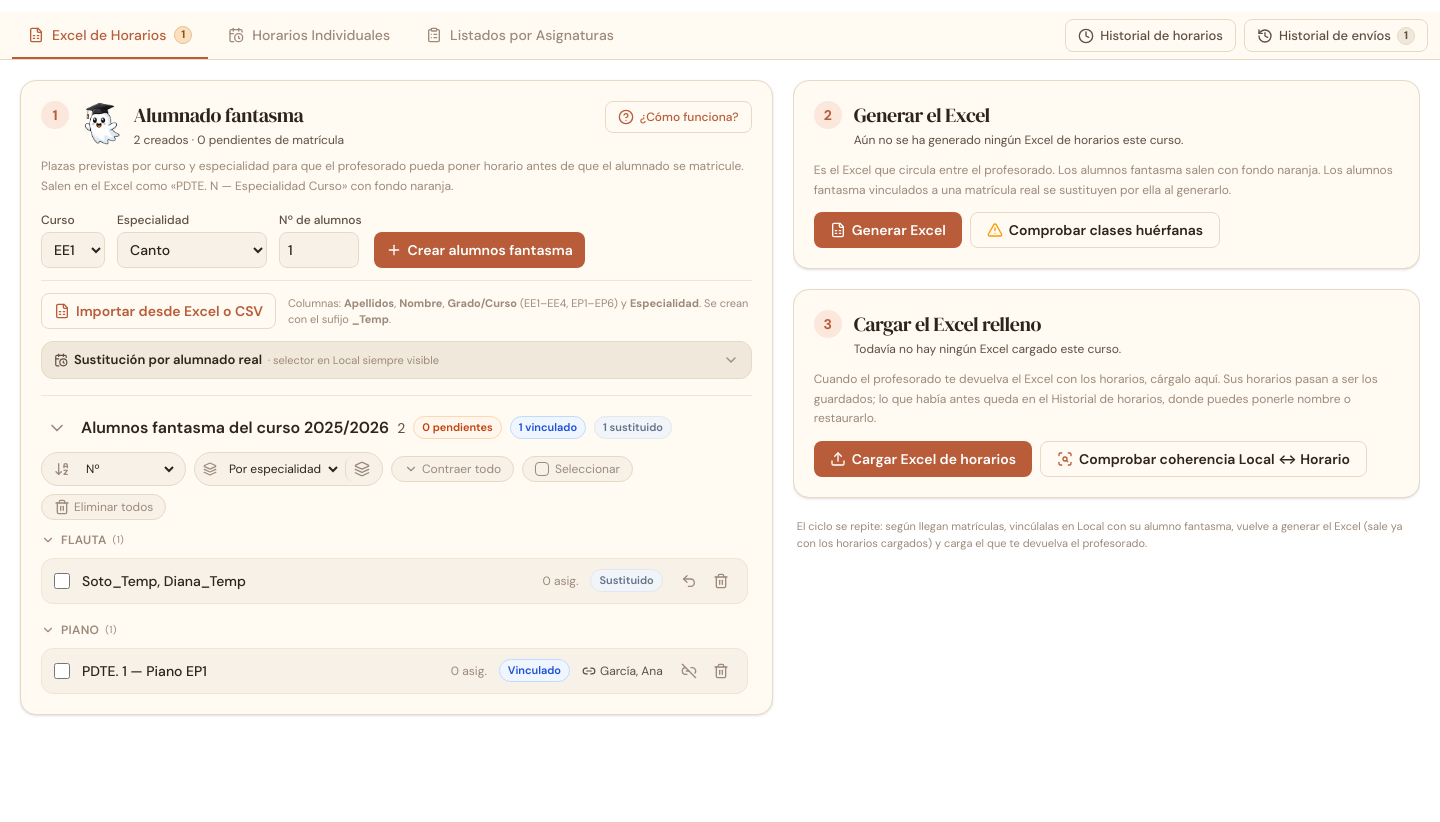
Test: Horarios — pestañas › Horarios Individuales sin horarios invita a ir a Excel de Horarios
Click the button "Horarios Individuales": (309, 36) [212,12,406,59]
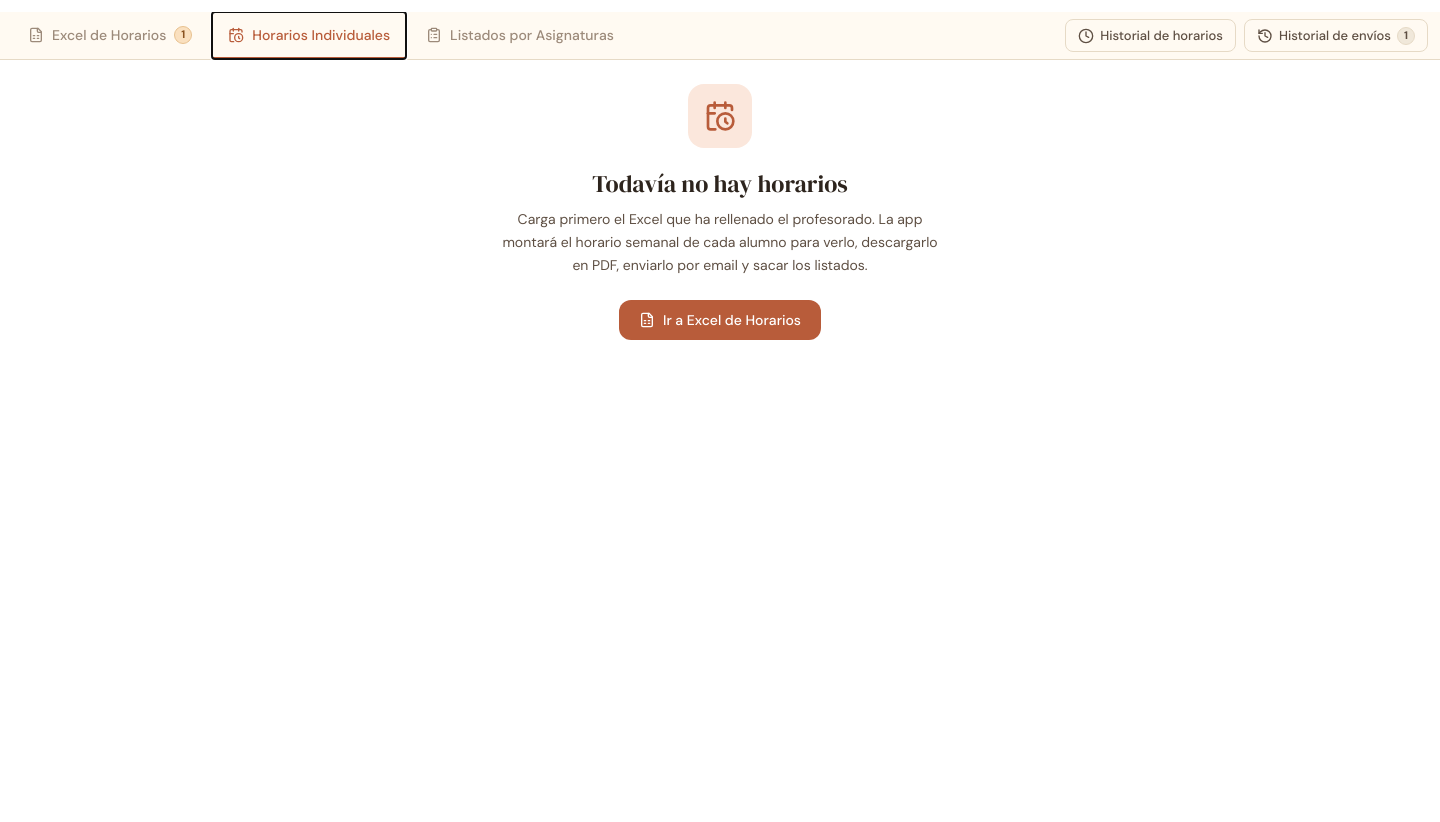
Click the button "Ir a Excel de Horarios": (720, 320) [619,300,821,340]
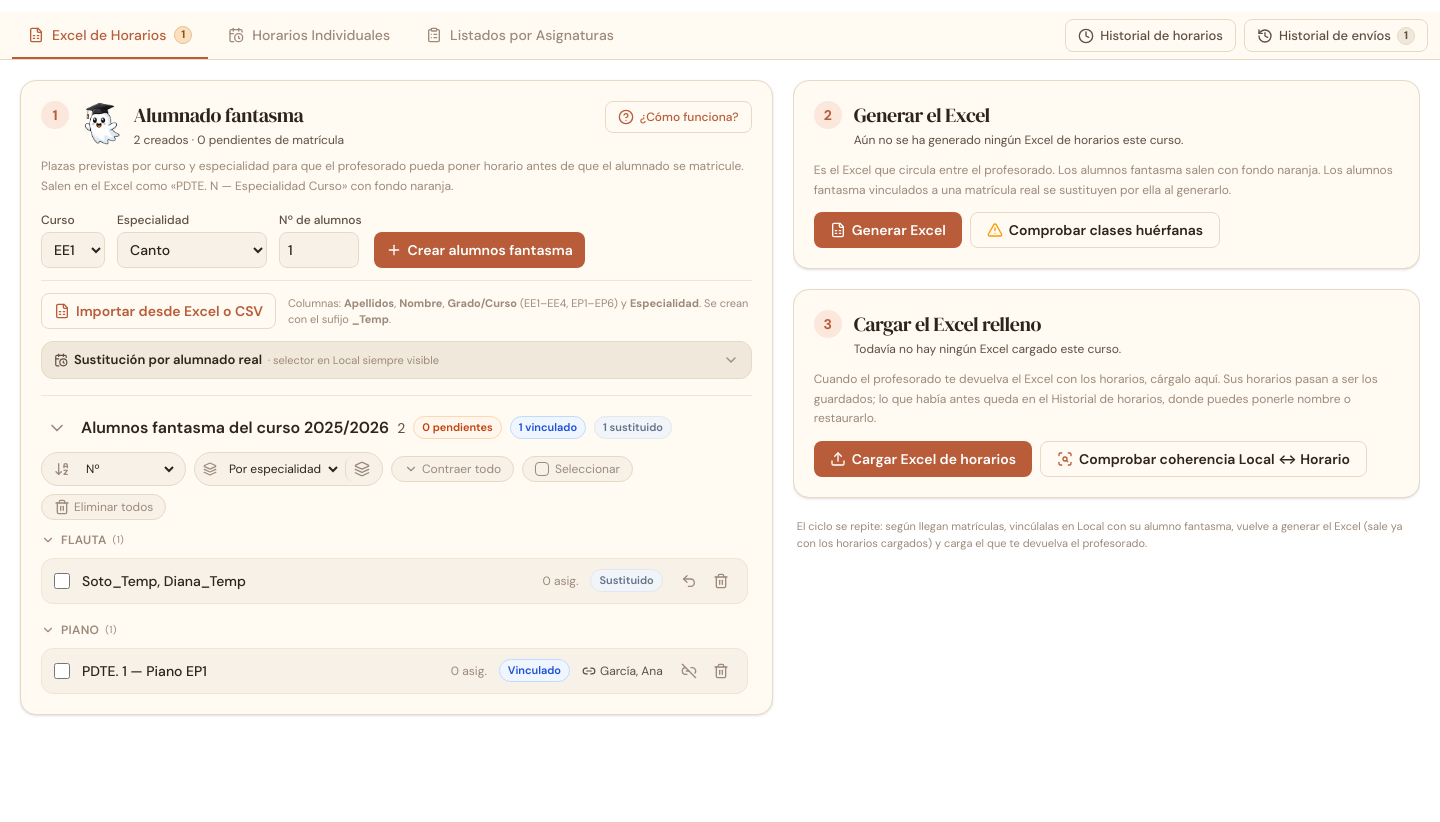
Expected: the heading "Alumnado fantasma" is shown, [133,101,303,129]
